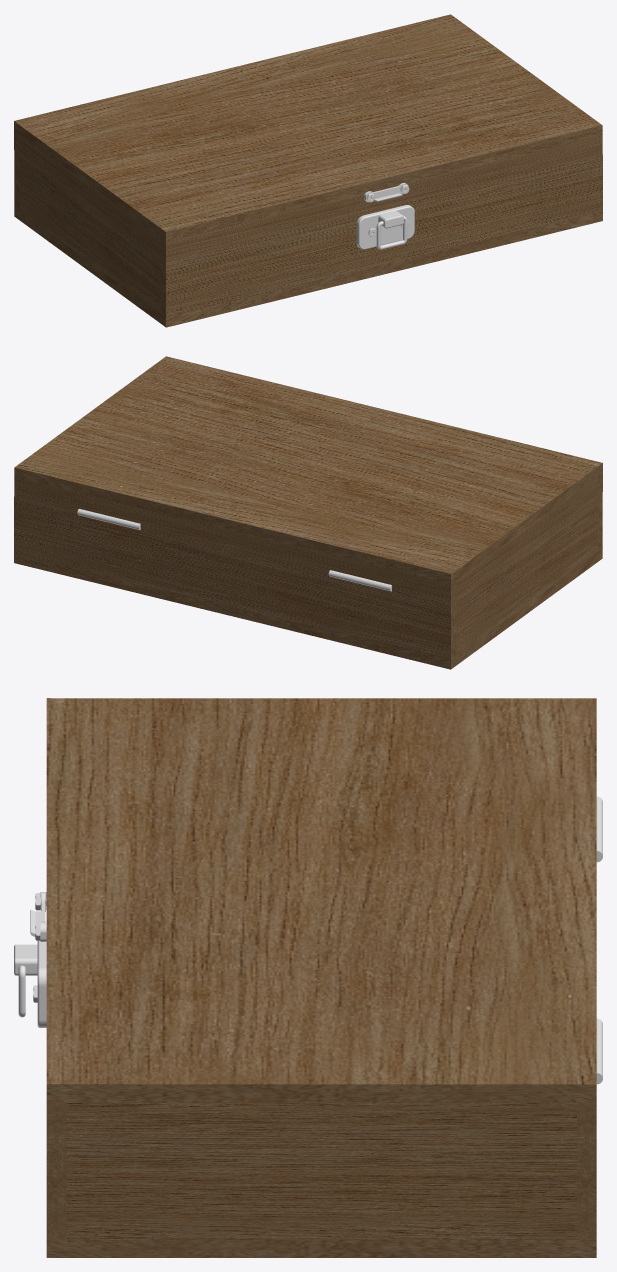
Rendered from Specimen Holder.fbx.
3 renders of one model, top to bottom at view 1: azimuth 30°, elevation 25°; view 2: azimuth 150°, elevation 25°; view 3: azimuth 270°, elevation 25°, orthographic. The views are drawn at different scales.
Visible parts, largest first — view 1: Cube.009, Cube, Cube.015; view 2: Cube.009, Cube, Cylinder, Cylinder.001; view 3: Cube.009, Cube, Cube.015.
Boxes of the visible parts, bbox=[...] form: Cube.009: bbox=[14, 14, 602, 260]; Cube: bbox=[14, 150, 602, 327]; Cube.015: bbox=[356, 205, 414, 249]; Cube.009: bbox=[14, 356, 602, 602]; Cube: bbox=[14, 492, 602, 669]; Cylinder: bbox=[328, 570, 391, 591]; Cylinder.001: bbox=[77, 509, 140, 529]; Cube.009: bbox=[46, 698, 596, 1136]; Cube: bbox=[46, 1137, 596, 1257]; Cube.015: bbox=[37, 940, 46, 1027].
Bounding box in the file's own units: 332 × 69.53 × 214.
